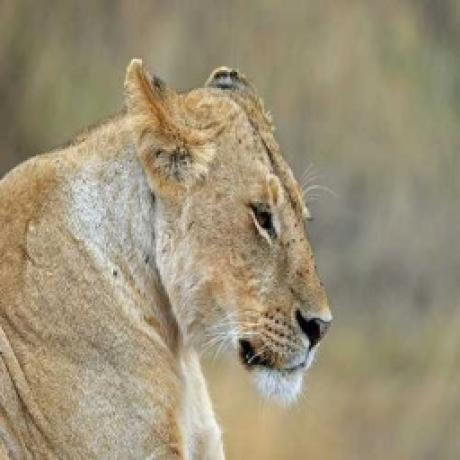Lion: (0, 55, 334, 460)
